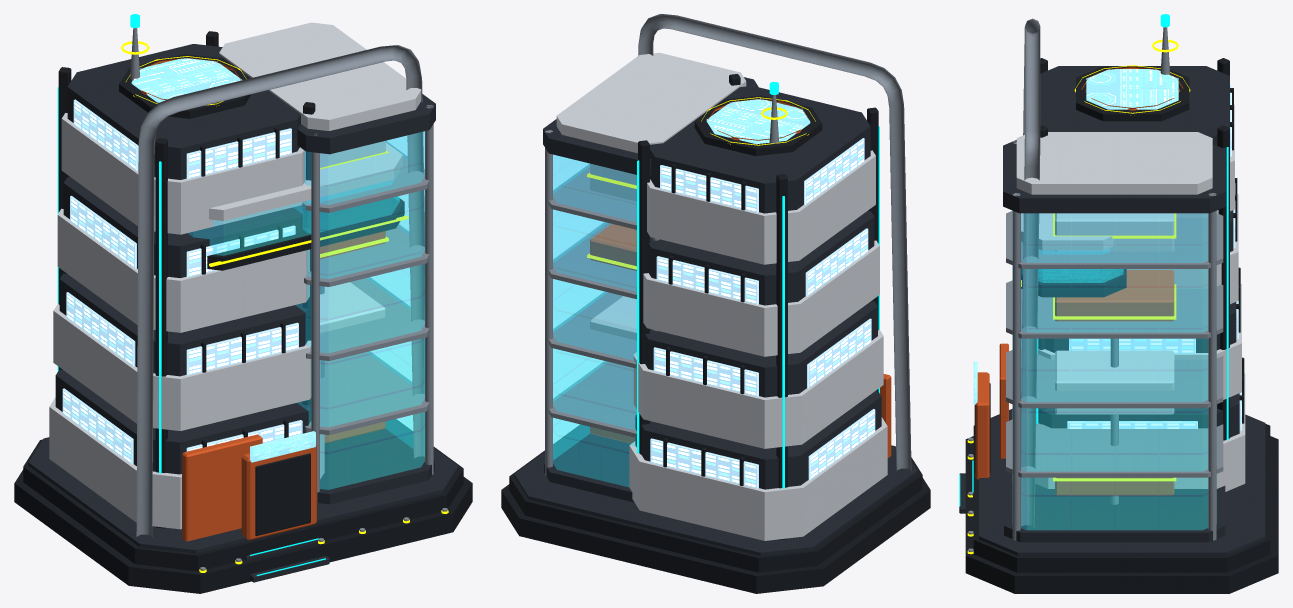
File: bldg_13_r1_05.glb
3 views of the same model, side by side, from view 1: azimuth 30°, elevation 25°; view 2: azimuth 150°, elevation 25°; view 3: azimuth 270°, elevation 25° (orthographic). The views are drawn at different scales.
Parts seen in each view (by area): view 1: Bldg13_C05_aero_white, Bldg13_C05_carbon_slate, Bldg13_C05_steel_machined, Bldg13_C05_glass_cyan, Bldg13_C05_gunmetal, Bldg13_C05_window_lit, Bldg13_C05_accent_orange, Bldg13_C05_marquee, Bldg13_C05_led_cyan, Bldg13_C05_led_amber; view 2: Bldg13_C05_aero_white, Bldg13_C05_carbon_slate, Bldg13_C05_gunmetal, Bldg13_C05_steel_machined, Bldg13_C05_glass_cyan, Bldg13_C05_window_lit, Bldg13_C05_marquee, Bldg13_C05_accent_orange, Bldg13_C05_led_cyan, Bldg13_C05_led_amber; view 3: Bldg13_C05_glass_cyan, Bldg13_C05_steel_machined, Bldg13_C05_carbon_slate, Bldg13_C05_aero_white, Bldg13_C05_gunmetal, Bldg13_C05_accent_orange, Bldg13_C05_marquee, Bldg13_C05_window_lit, Bldg13_C05_led_amber, Bldg13_C05_led_cyan.
Boxes of the visible parts, x1,y1,x2,y2 form: Bldg13_C05_aero_white: [49, 22, 421, 529]; Bldg13_C05_carbon_slate: [28, 44, 458, 582]; Bldg13_C05_steel_machined: [130, 28, 447, 570]; Bldg13_C05_glass_cyan: [188, 131, 424, 489]; Bldg13_C05_gunmetal: [14, 31, 472, 593]; Bldg13_C05_window_lit: [62, 99, 302, 464]; Bldg13_C05_accent_orange: [133, 57, 385, 541]; Bldg13_C05_marquee: [131, 58, 315, 462]; Bldg13_C05_led_cyan: [57, 14, 325, 575]; Bldg13_C05_led_amber: [121, 41, 448, 572]; Bldg13_C05_aero_white: [556, 52, 887, 540]; Bldg13_C05_carbon_slate: [514, 77, 917, 555]; Bldg13_C05_gunmetal: [501, 74, 930, 593]; Bldg13_C05_steel_machined: [545, 14, 911, 476]; Bldg13_C05_glass_cyan: [553, 154, 636, 486]; Bldg13_C05_window_lit: [650, 138, 875, 488]; Bldg13_C05_marquee: [706, 98, 810, 144]; Bldg13_C05_accent_orange: [590, 98, 891, 457]; Bldg13_C05_led_cyan: [637, 81, 879, 488]; Bldg13_C05_led_amber: [587, 97, 815, 269]; Bldg13_C05_glass_cyan: [1012, 211, 1216, 529]; Bldg13_C05_steel_machined: [968, 18, 1223, 551]; Bldg13_C05_carbon_slate: [959, 66, 1265, 555]; Bldg13_C05_aero_white: [1016, 104, 1245, 491]; Bldg13_C05_gunmetal: [965, 58, 1278, 593]; Bldg13_C05_accent_orange: [975, 66, 1183, 495]; Bldg13_C05_marquee: [973, 69, 1178, 404]; Bldg13_C05_window_lit: [1067, 85, 1241, 430]; Bldg13_C05_led_amber: [967, 39, 1190, 554]; Bldg13_C05_led_cyan: [959, 14, 1228, 506].
Size of the model in its own units: 12.5 by 17.02 by 10.71.
Materials: 10 (10 with a texture image).
